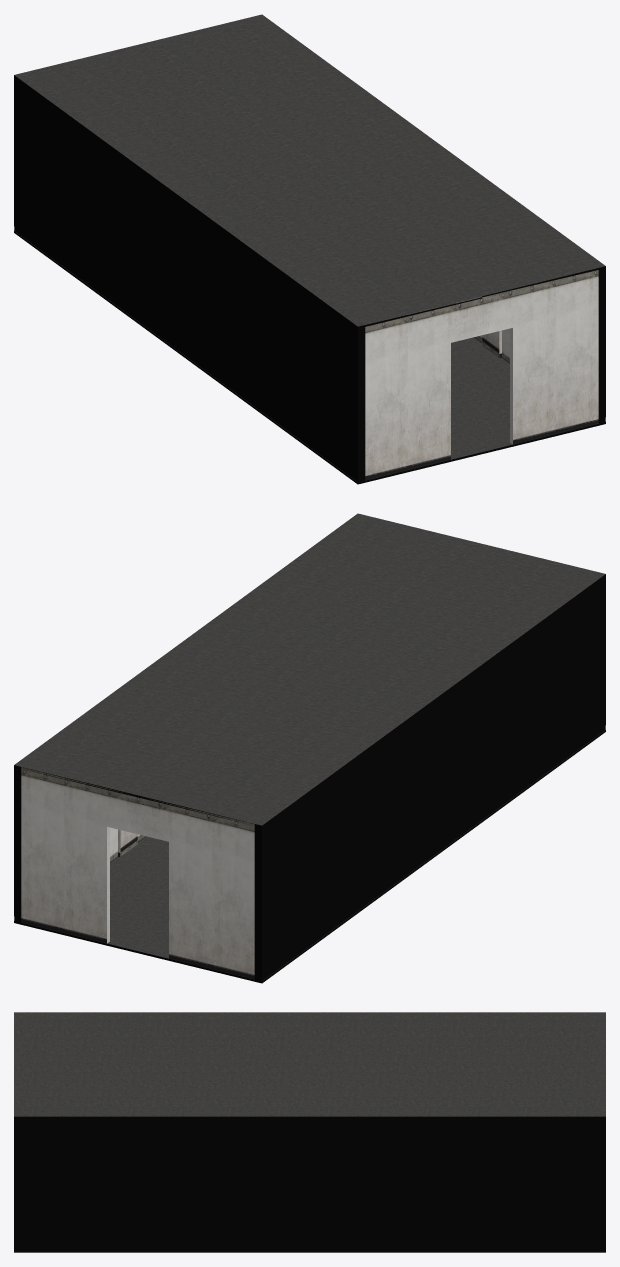
The model's file is LC-Tunnel-1.fbx.
3 renders of one model, top to bottom at view 1: azimuth 30°, elevation 25°; view 2: azimuth 150°, elevation 25°; view 3: azimuth 270°, elevation 25°, orthographic. The views are drawn at different scales.
Visible parts, largest first — view 1: node_id9 (×3); view 2: node_id9 (×3); view 3: node_id9 (×2).
Boxes of the visible parts, x1=… form: node_id9 (×3): x1=14, y1=14, x2=605, y2=484; node_id9 (×3): x1=14, y1=513, x2=605, y2=983; node_id9 (×2): x1=14, y1=1012, x2=605, y2=1252.
Size of the model in its own units: 0.512 by 0.3113 by 1.23.
Materials: 4 (3 with a texture image).
